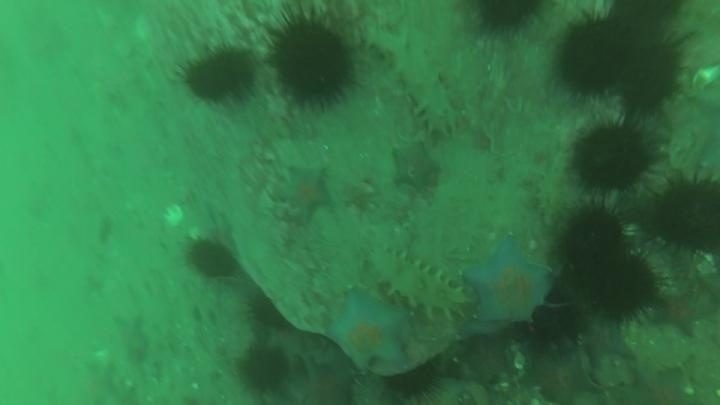echinus: (267, 16, 356, 108), (555, 16, 634, 99), (569, 121, 656, 196), (648, 173, 719, 256), (615, 38, 685, 115), (556, 204, 629, 276), (588, 253, 660, 322), (180, 44, 259, 106), (522, 293, 583, 351), (237, 342, 292, 396), (467, 1, 550, 36), (381, 360, 445, 403), (607, 1, 685, 36), (185, 237, 239, 281), (245, 291, 291, 333)
holothurian: (365, 23, 461, 136), (365, 245, 472, 320), (531, 166, 566, 229)
starfish: (461, 239, 555, 328), (323, 290, 413, 376), (526, 347, 601, 405), (278, 164, 335, 223), (576, 313, 635, 370), (388, 139, 443, 195), (617, 364, 694, 404), (293, 360, 356, 405), (651, 288, 707, 338), (71, 362, 124, 405), (109, 314, 152, 366)
